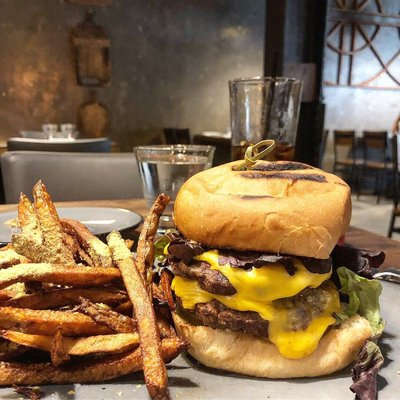pizza: (229, 76, 303, 162), (133, 144, 216, 207)
soup: (156, 151, 392, 380), (0, 183, 169, 398), (10, 178, 111, 269)
